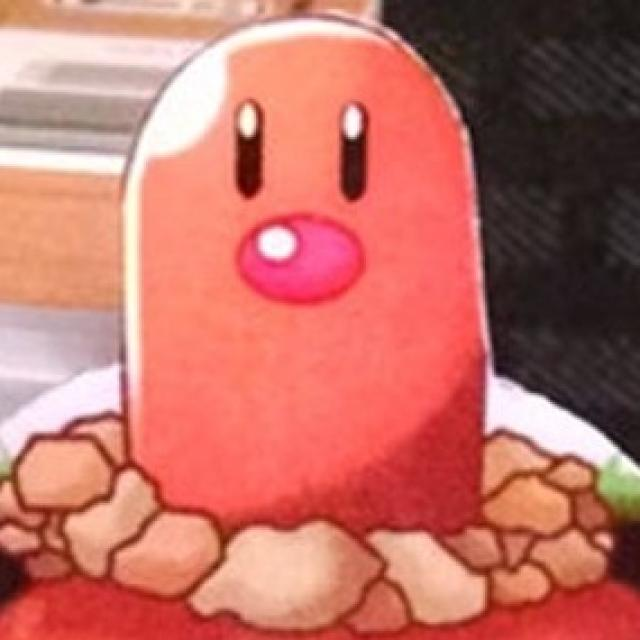Diglett: (113, 12, 489, 543)
